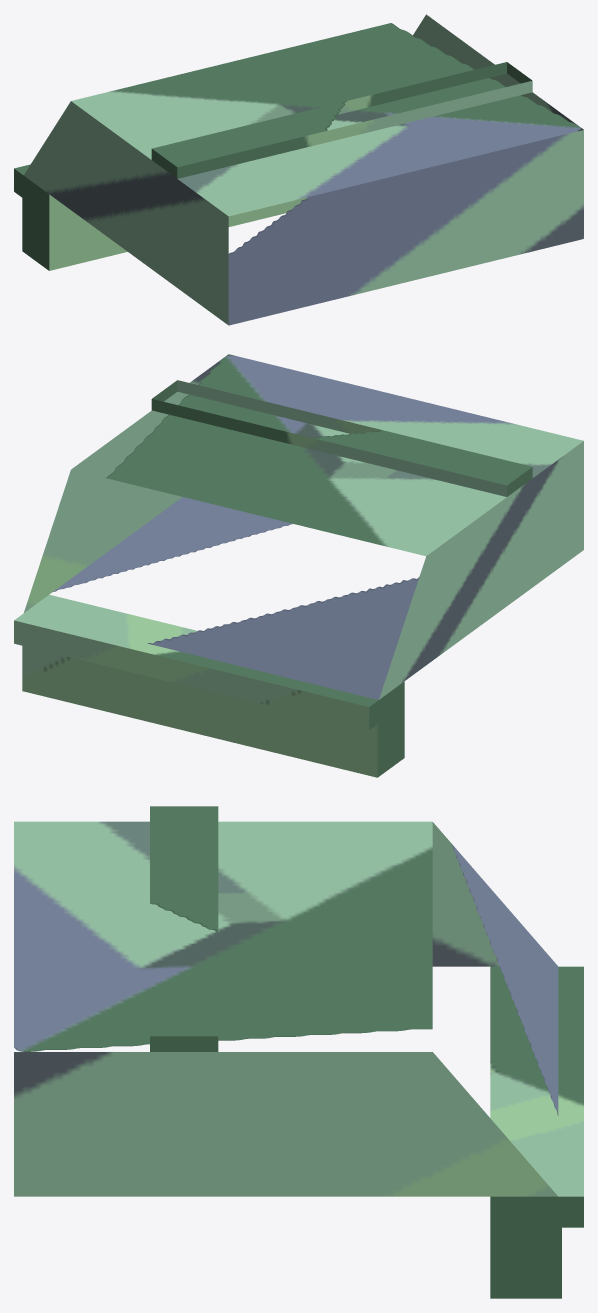
Rendered from ss3_carport_ad.obj.
3 views of the same model, one above another, from view 1: azimuth 30°, elevation 25°; view 2: azimuth 150°, elevation 25°; view 3: azimuth 270°, elevation 25° (orthographic). The views are drawn at different scales.
Parts seen in each view (by area): view 1: cuboid_selection_selection_selection_selection_selection_selecti; view 2: cuboid_selection_selection_selection_selection_selection_selecti; view 3: cuboid_selection_selection_selection_selection_selection_selecti.
Part boxes in pixels (bbox=[...]): cuboid_selection_selection_selection_selection_selection_selecti: bbox=[14, 14, 583, 325]; cuboid_selection_selection_selection_selection_selection_selecti: bbox=[14, 354, 583, 777]; cuboid_selection_selection_selection_selection_selection_selecti: bbox=[14, 806, 583, 1298].
Bounding box in the file's own units: 1 × 0.5313 × 1.05.
